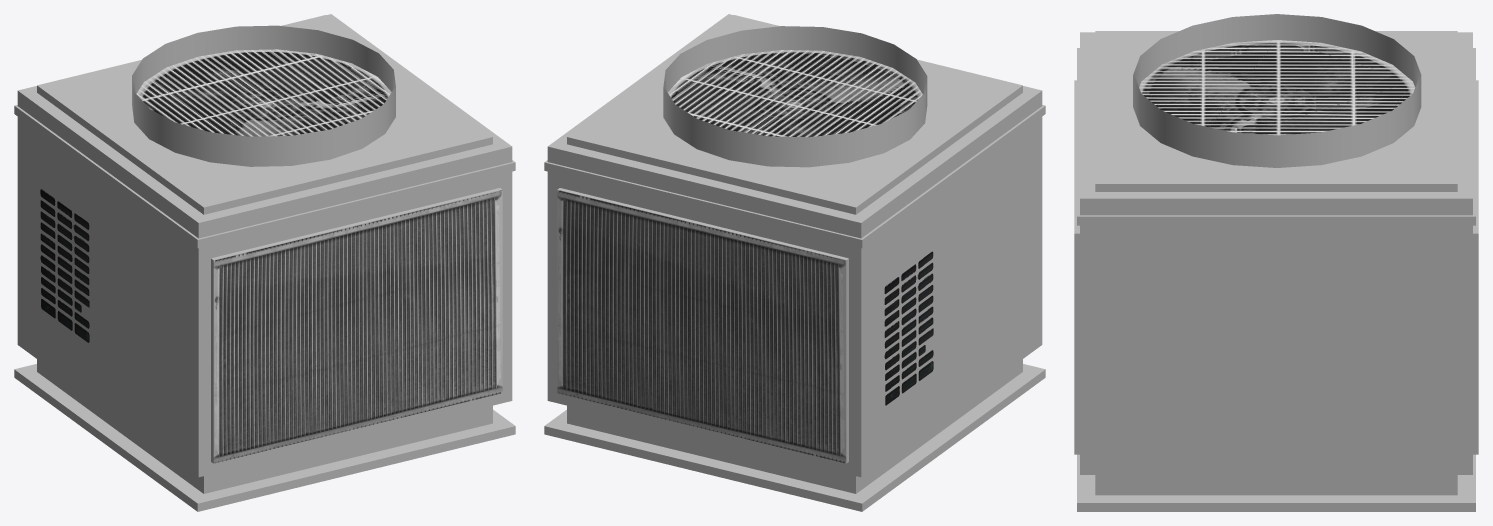
File: rd1_vent.FBX
3 renders of one model, left to right at view 1: azimuth 30°, elevation 25°; view 2: azimuth 150°, elevation 25°; view 3: azimuth 270°, elevation 25°, orthographic. The views are drawn at different scales.
Parts seen in each view (by area): view 1: rd1_vent; view 2: rd1_vent; view 3: rd1_vent.
Boxes of the visible parts, x1,y1,x2,y2 form: rd1_vent: (14,14,515,511); rd1_vent: (544,14,1045,511); rd1_vent: (1074,14,1478,511).
Bounding box in the file's own units: 10.14 × 10.28 × 9.89.
